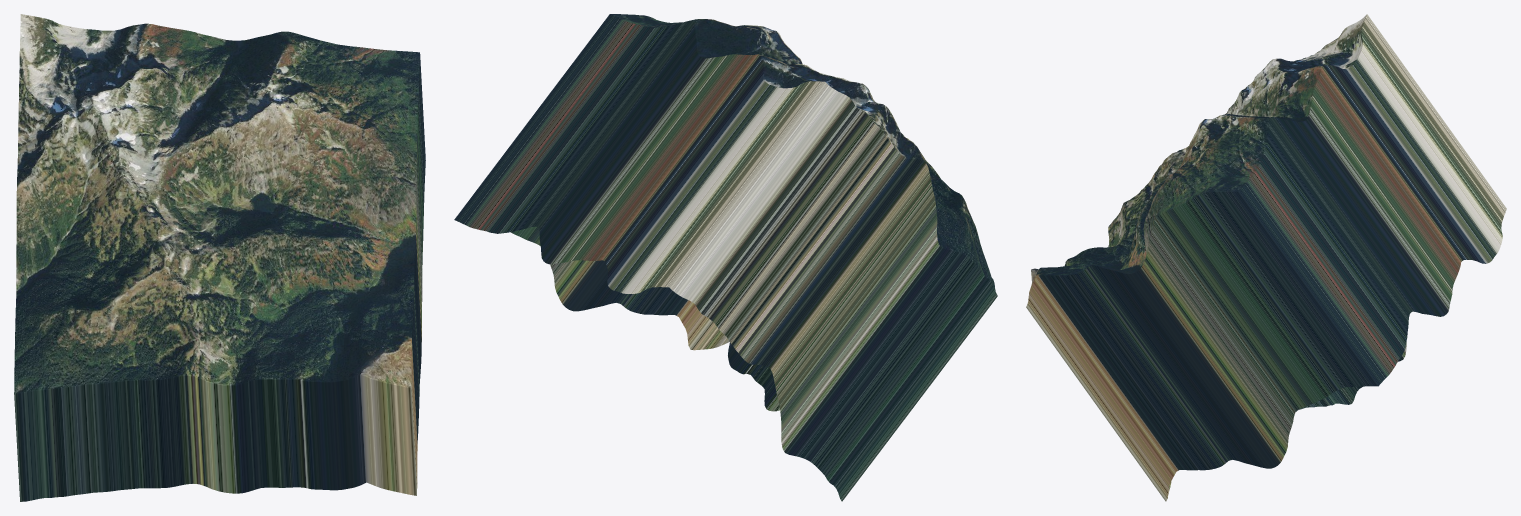
3 views of the same model, side by side, from view 1: azimuth 30°, elevation 25°; view 2: azimuth 150°, elevation 25°; view 3: azimuth 270°, elevation 25° (orthographic). The views are drawn at different scales.
Bounding box in the file's own units: 6096 × 5441 × 6018.
Materials: 1 (1 with a texture image).
